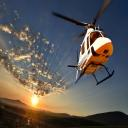helicopter: (52, 1, 119, 88)
